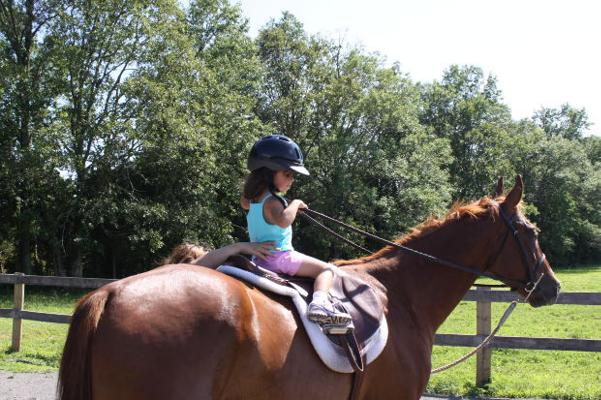person: (240, 137, 356, 333)
